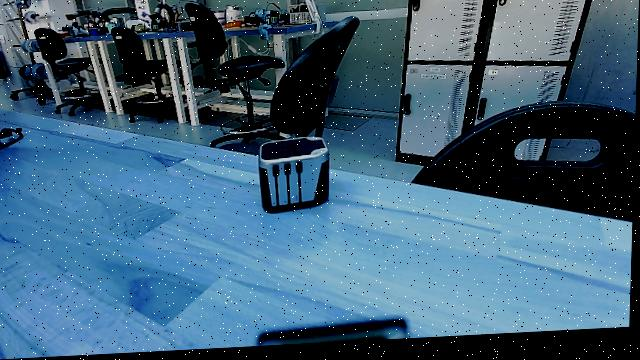adapter: (249, 133, 335, 225)
